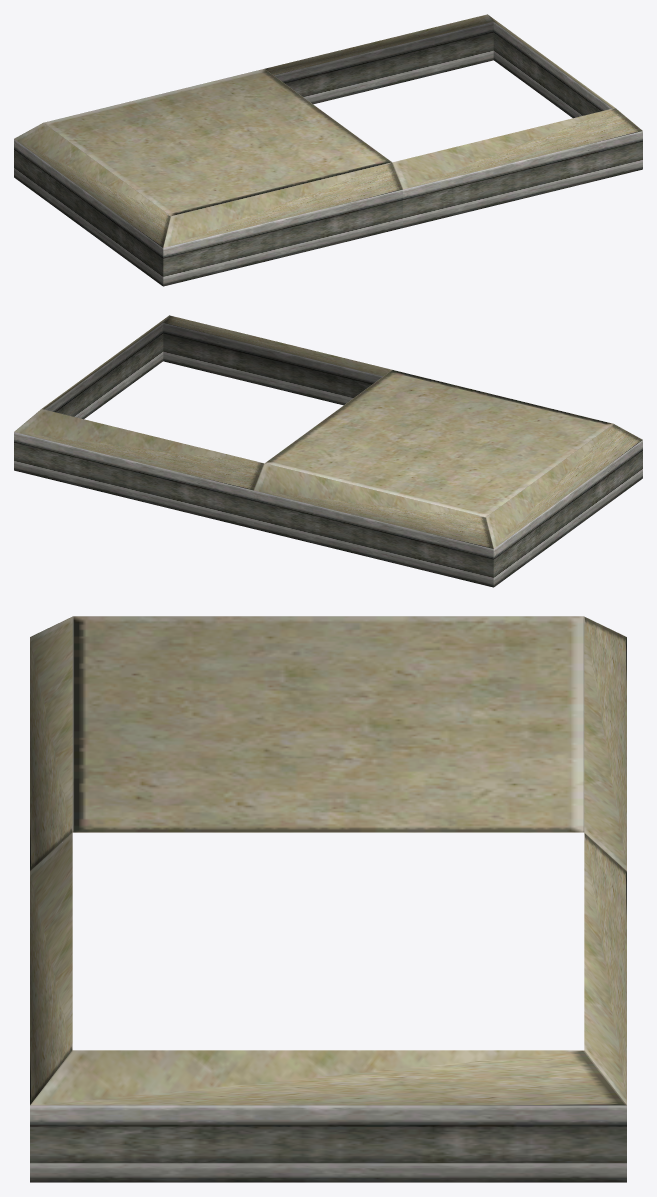
The model's file is DWARF_PALACE_ARKENSTONE_OBLISK_BASE.fbx.
3 views of the same model, one above another, from view 1: azimuth 30°, elevation 25°; view 2: azimuth 150°, elevation 25°; view 3: azimuth 270°, elevation 25° (orthographic). The views are drawn at different scales.
Parts seen in each view (by area): view 1: DWARF_PALACE_ARKENSTONE_OBLISK_BASE; view 2: DWARF_PALACE_ARKENSTONE_OBLISK_BASE; view 3: DWARF_PALACE_ARKENSTONE_OBLISK_BASE.
Part boxes in pixels (x1,y1,x2,y2): DWARF_PALACE_ARKENSTONE_OBLISK_BASE: (14, 14, 642, 286); DWARF_PALACE_ARKENSTONE_OBLISK_BASE: (14, 315, 642, 587); DWARF_PALACE_ARKENSTONE_OBLISK_BASE: (30, 616, 626, 1182).
Size of the model in its own units: 26000 by 3000 by 14000.
2 materials, 2 textured.
